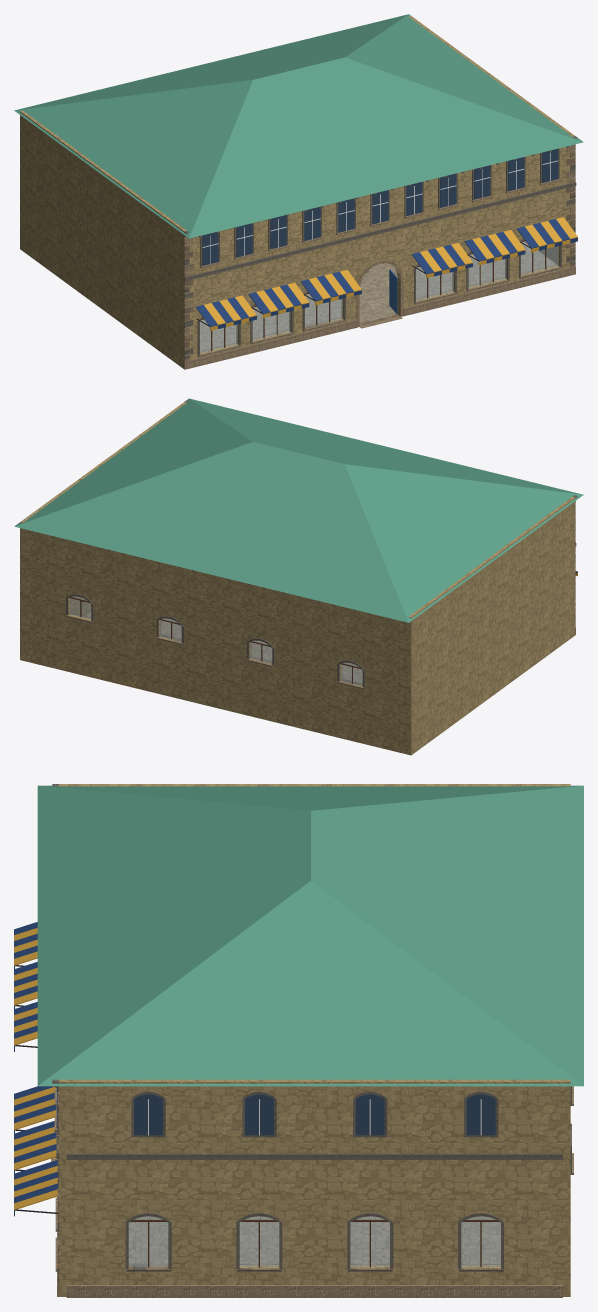
File: shop_bank.gltf
3 views of the same model, one above another, from view 1: azimuth 30°, elevation 25°; view 2: azimuth 150°, elevation 25°; view 3: azimuth 270°, elevation 25° (orthographic). The views are drawn at different scales.
Visible parts, largest first — view 1: shop_bank; view 2: shop_bank; view 3: shop_bank.
Part boxes in pixels (<box>): shop_bank: <box>14,14,583,369</box>; shop_bank: <box>14,398,583,755</box>; shop_bank: <box>14,784,583,1297</box>.
Size of what is drawn, in the model's own units: 26.96 by 12.65 by 21.6.
Materials: 7 (3 with a texture image).
